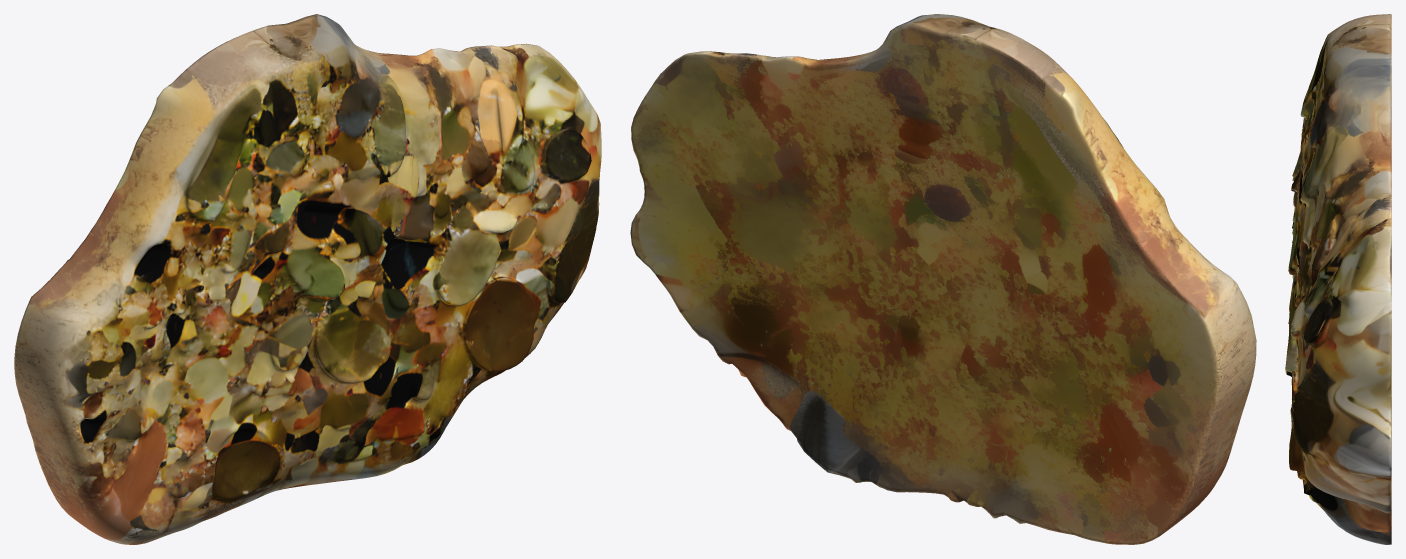
3 views of the same model, side by side, from view 1: azimuth 30°, elevation 25°; view 2: azimuth 150°, elevation 25°; view 3: azimuth 270°, elevation 25° (orthographic). The views are drawn at different scales.
Visible parts, largest first — view 1: model; view 2: model; view 3: model.
Part boxes in pixels (x1=…): model: x1=14, y1=14, x2=601, y2=544; model: x1=630, y1=14, x2=1256, y2=544; model: x1=1285, y1=14, x2=1391, y2=544.
Size of the model in its own units: 1.77 by 1.37 by 0.2883.
1 material, 1 textured.
